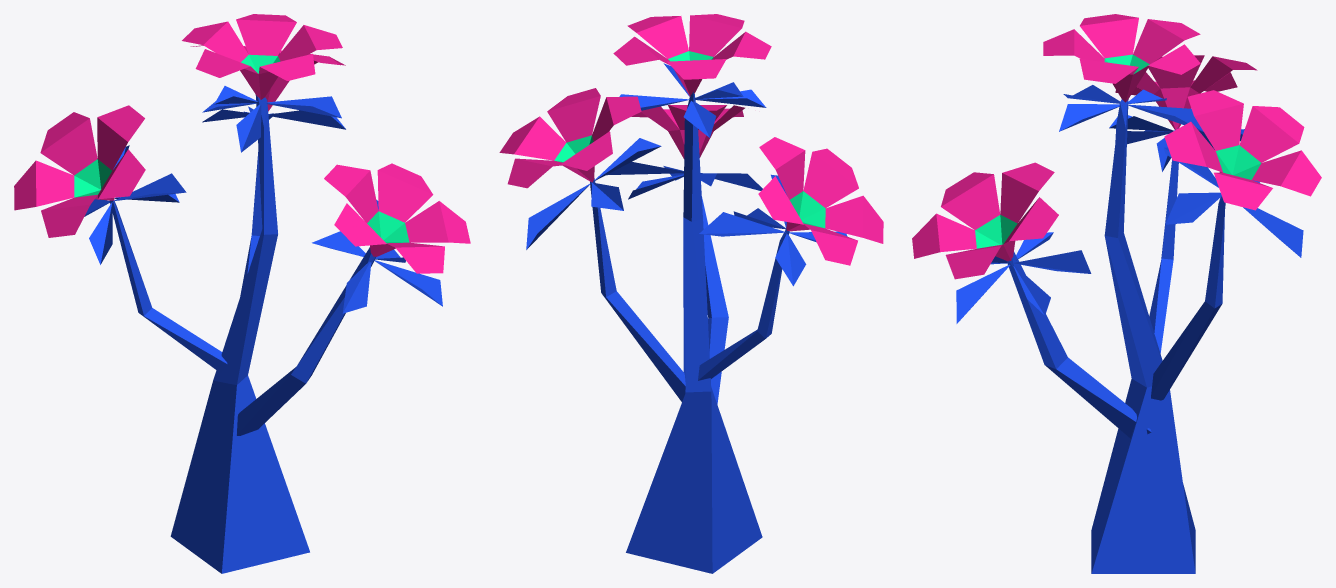
Rendered from 043_flower.fbx.
3 renders of one model, left to right at view 1: azimuth 30°, elevation 25°; view 2: azimuth 150°, elevation 25°; view 3: azimuth 270°, elevation 25°, orthographic. The views are drawn at different scales.
Visible parts, largest first — view 1: FLOWER; view 2: FLOWER; view 3: FLOWER.
Part boxes in pixels (x1=…): FLOWER: x1=14, y1=14, x2=470, y2=573; FLOWER: x1=499, y1=14, x2=883, y2=573; FLOWER: x1=912, y1=14, x2=1321, y2=573.
Size of the model in its own units: 70.86 by 101 by 72.7.
